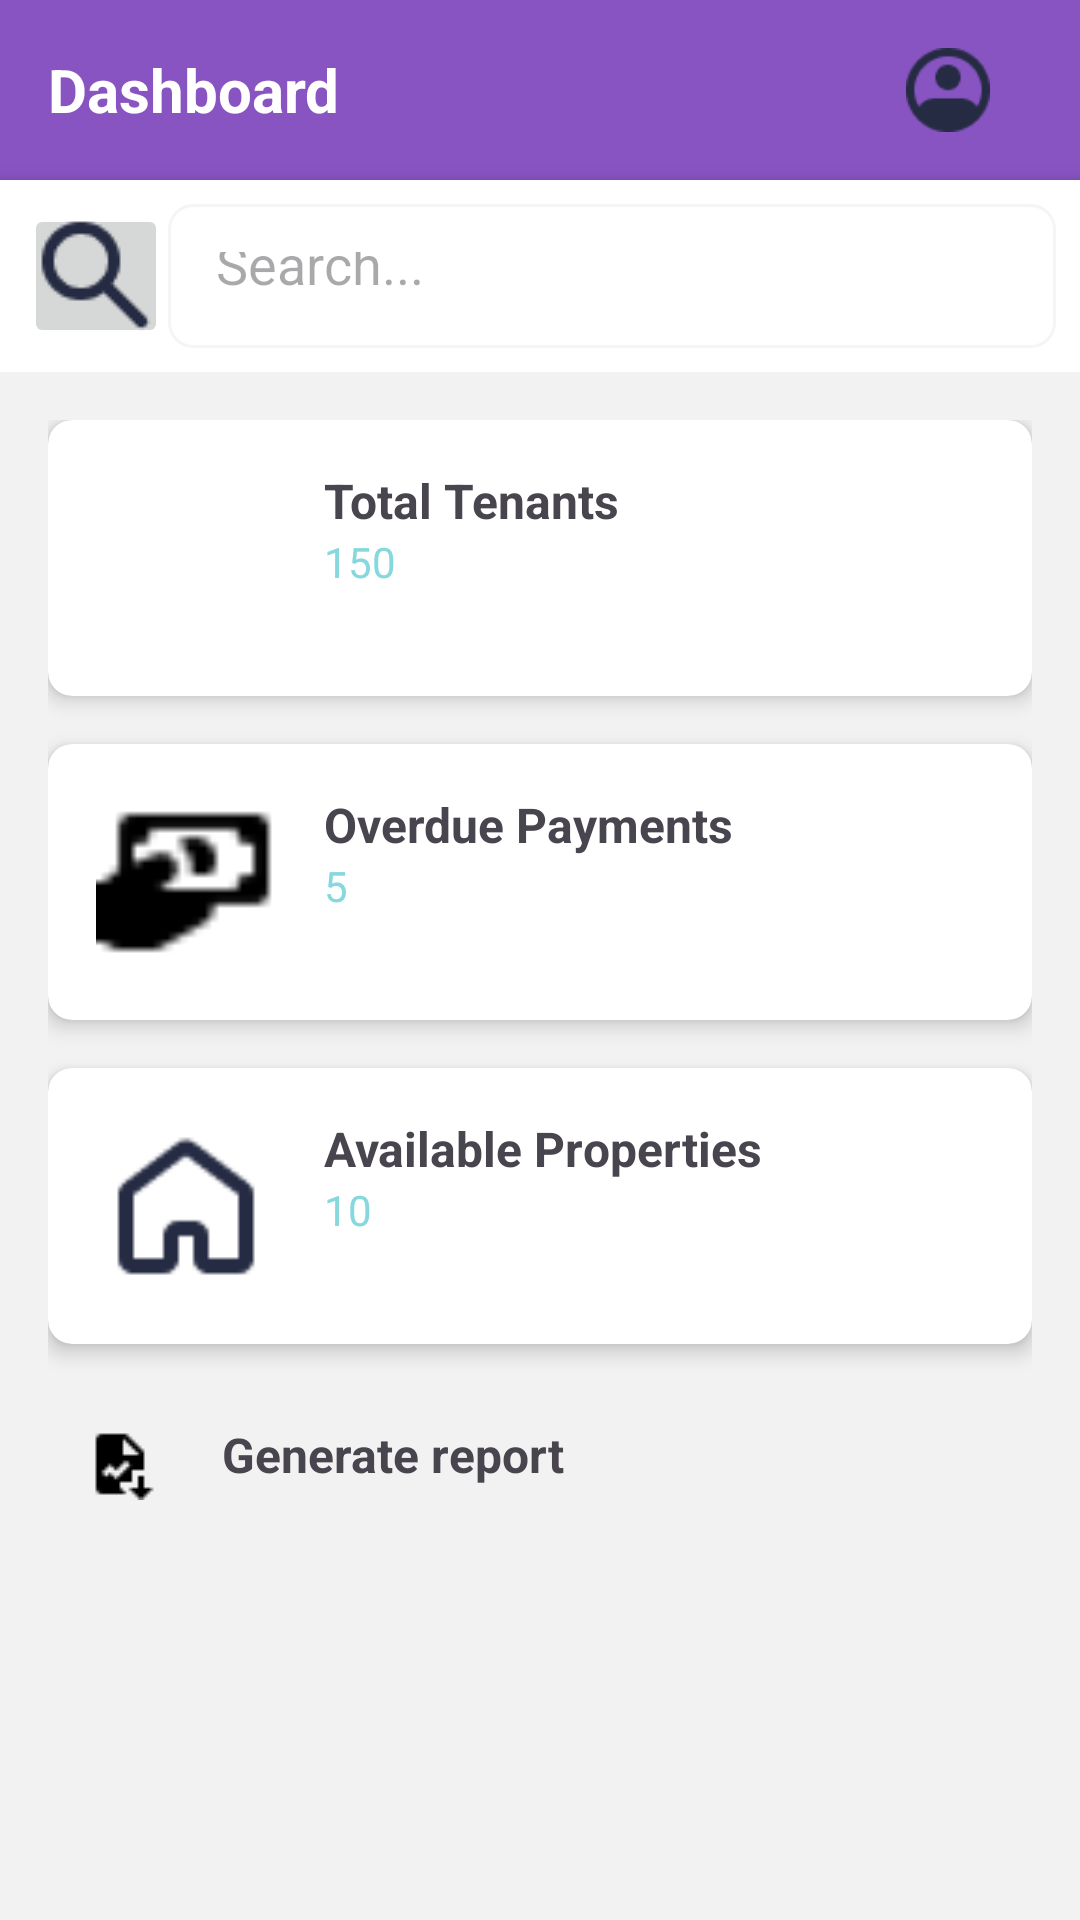

Named icons in this screenshot (1080 x 1920) and their centers, (x=x, y=y):
Profile Icon: (x=948, y=90)
